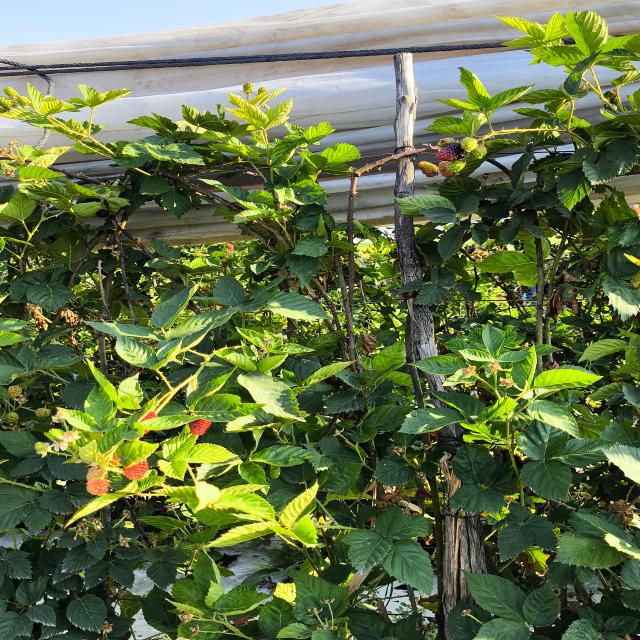marron: (436, 142, 466, 161)
naranja: (124, 460, 149, 480), (86, 479, 109, 496), (189, 419, 211, 436), (417, 161, 437, 177), (437, 161, 455, 177), (138, 411, 158, 422), (233, 616, 248, 626)
verde: (45, 428, 65, 443), (447, 160, 465, 174), (469, 145, 487, 159), (460, 137, 478, 151), (7, 385, 22, 398), (4, 412, 18, 424), (35, 408, 51, 418)
